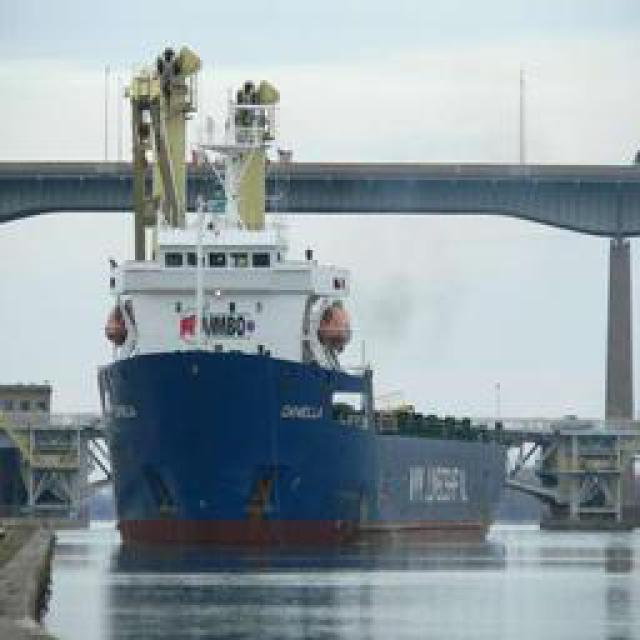Ship: (63, 60, 598, 578)
